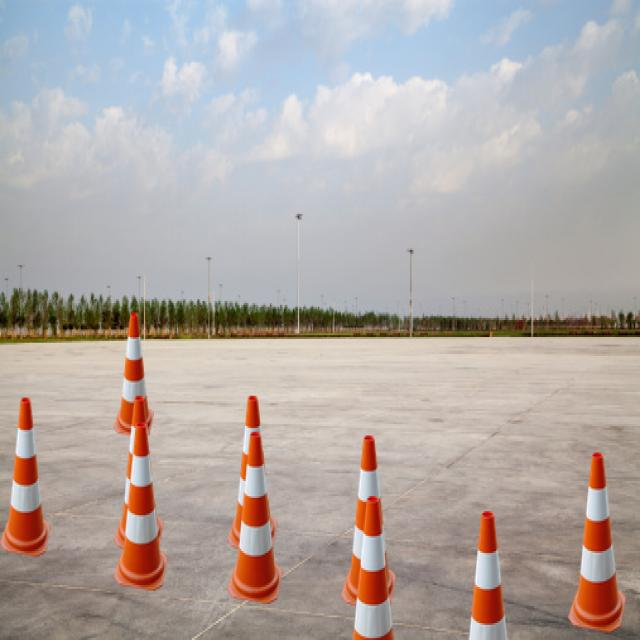large_orange_cone: (568, 452, 626, 632), (227, 432, 283, 604), (341, 436, 396, 610), (113, 422, 168, 591), (341, 496, 404, 640), (455, 511, 520, 640), (227, 396, 278, 553), (0, 397, 50, 556), (114, 396, 164, 553), (114, 312, 154, 438)
